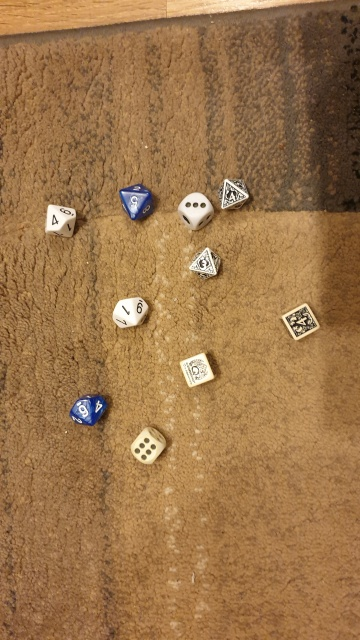d10-1: (103, 294, 152, 330)
d10-4: (37, 201, 82, 244)
d10-5: (111, 180, 156, 226)
d10-6: (55, 387, 109, 433)
d6-3: (175, 189, 217, 232)
d6-6: (122, 425, 174, 466)
d6p-4: (277, 296, 324, 344)
d6p-6: (176, 347, 219, 394)
d8p-3: (187, 244, 224, 283)
d8p-4: (211, 174, 254, 217)
